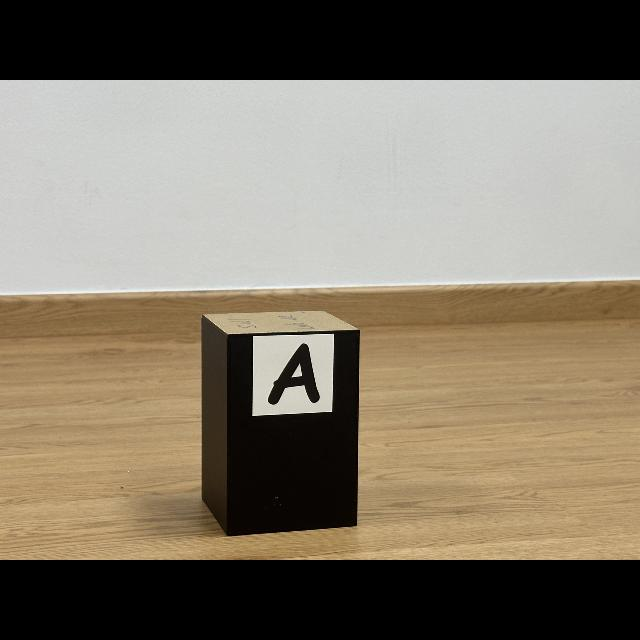A: (268, 344, 320, 405)
